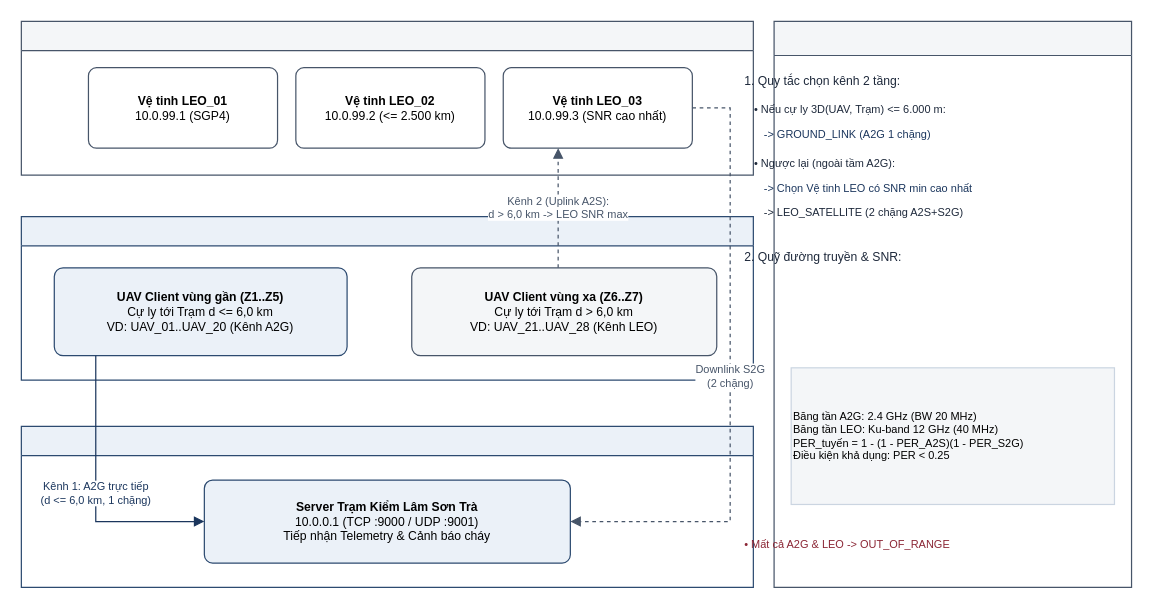
This 1153x609 diagram has some shape labels left out. Here are the shapes that lost their labels. From the top down, the box of each, then its label:
(20, 20, 753, 175): Tầng Không gian (Space) - Vệ tinh LEO (Subnet 10.0.99.x)
(20, 215, 753, 380): Tầng Trên không (Air) - 35 Tiến trình UAV Client (10.0.<1..8>.x)
(773, 20, 1132, 587): Đánh giá Kênh Vô tuyến PHY (2.1)
(20, 425, 753, 587): Tầng Mặt đất (Ground) - Trạm Kiểm Lâm Sơn Trà (10.0.0.1)
